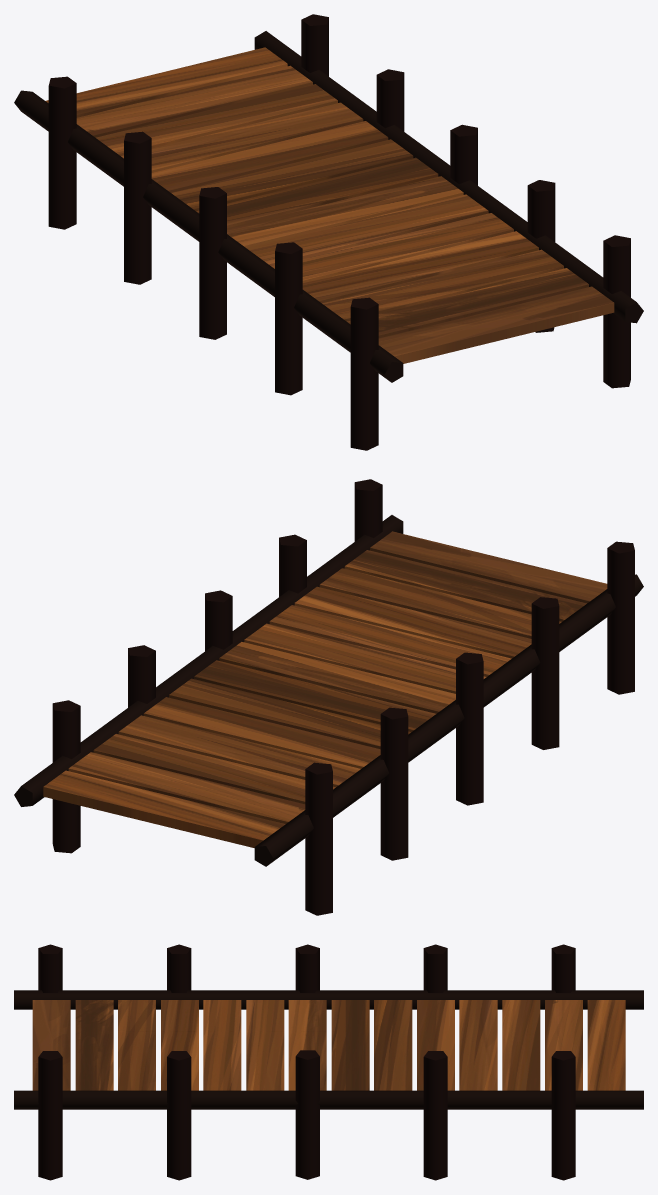
Rendered from Bridge.FBX.
3 views of the same model, one above another, from view 1: azimuth 30°, elevation 25°; view 2: azimuth 150°, elevation 25°; view 3: azimuth 270°, elevation 25° (orthographic). The views are drawn at different scales.
Parts seen in each view (by area): view 1: Box002, Cylinder018; view 2: Box002, Cylinder018; view 3: Box002, Cylinder018.
Boxes of the visible parts, x1=… form: Box002: x1=45, y1=47, x2=614, y2=363; Cylinder018: x1=14, y1=14, x2=643, y2=450; Box002: x1=43, y1=531, x2=607, y2=847; Cylinder018: x1=14, y1=479, x2=643, y2=915; Box002: x1=32, y1=1000, x2=625, y2=1090; Cylinder018: x1=14, y1=944, x2=643, y2=1180.
Bounding box in the file's own units: 363 × 175 × 832.
3 materials, 1 textured.
